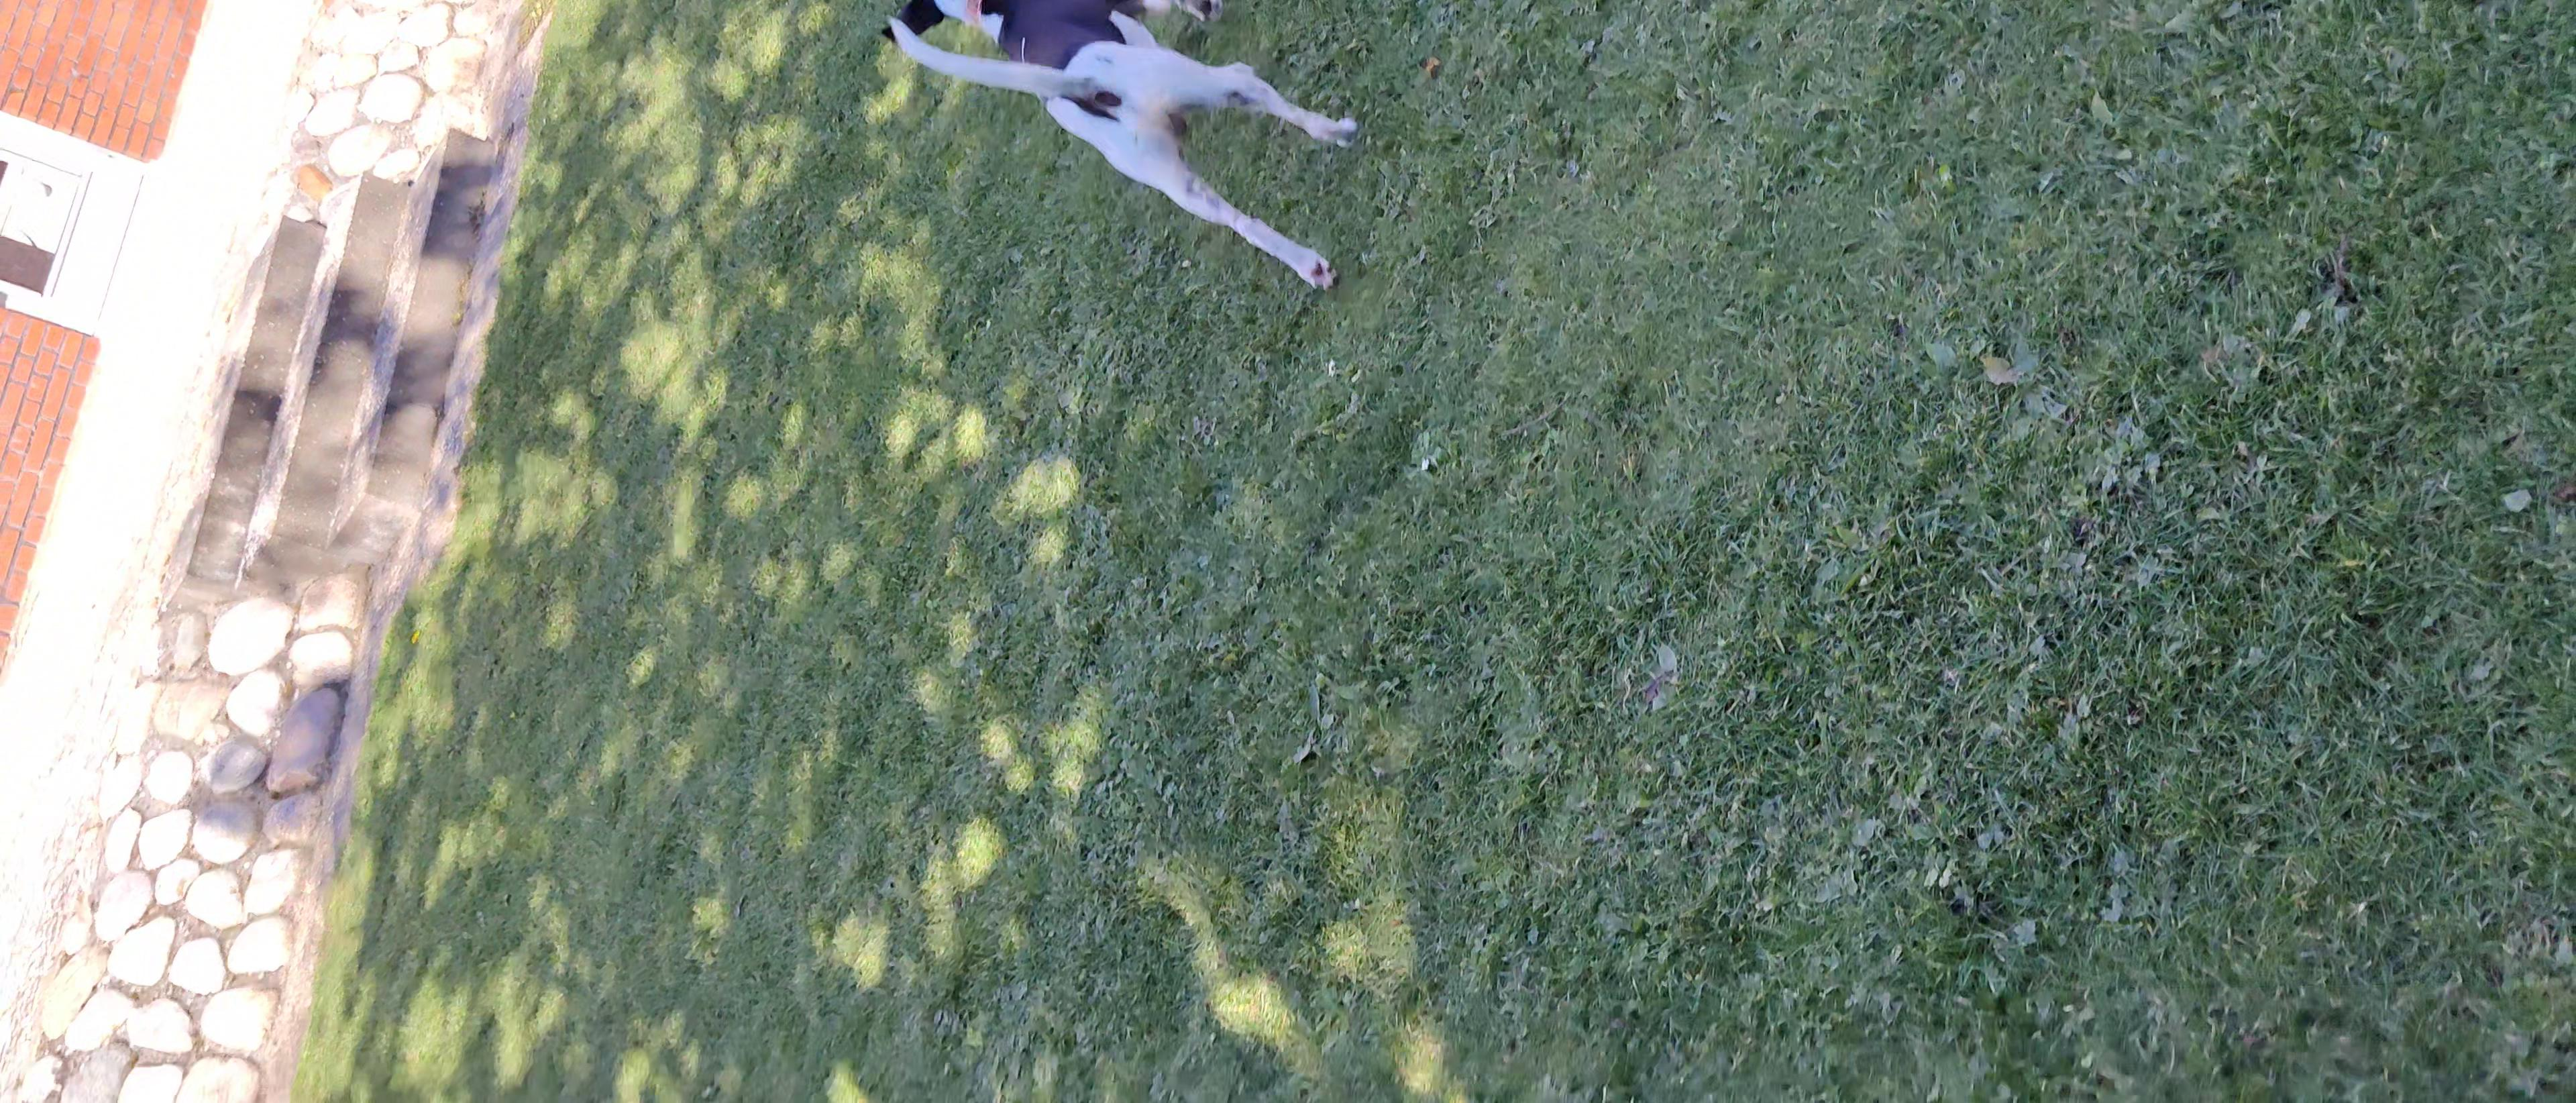Dog: (864, 0, 1375, 299)
